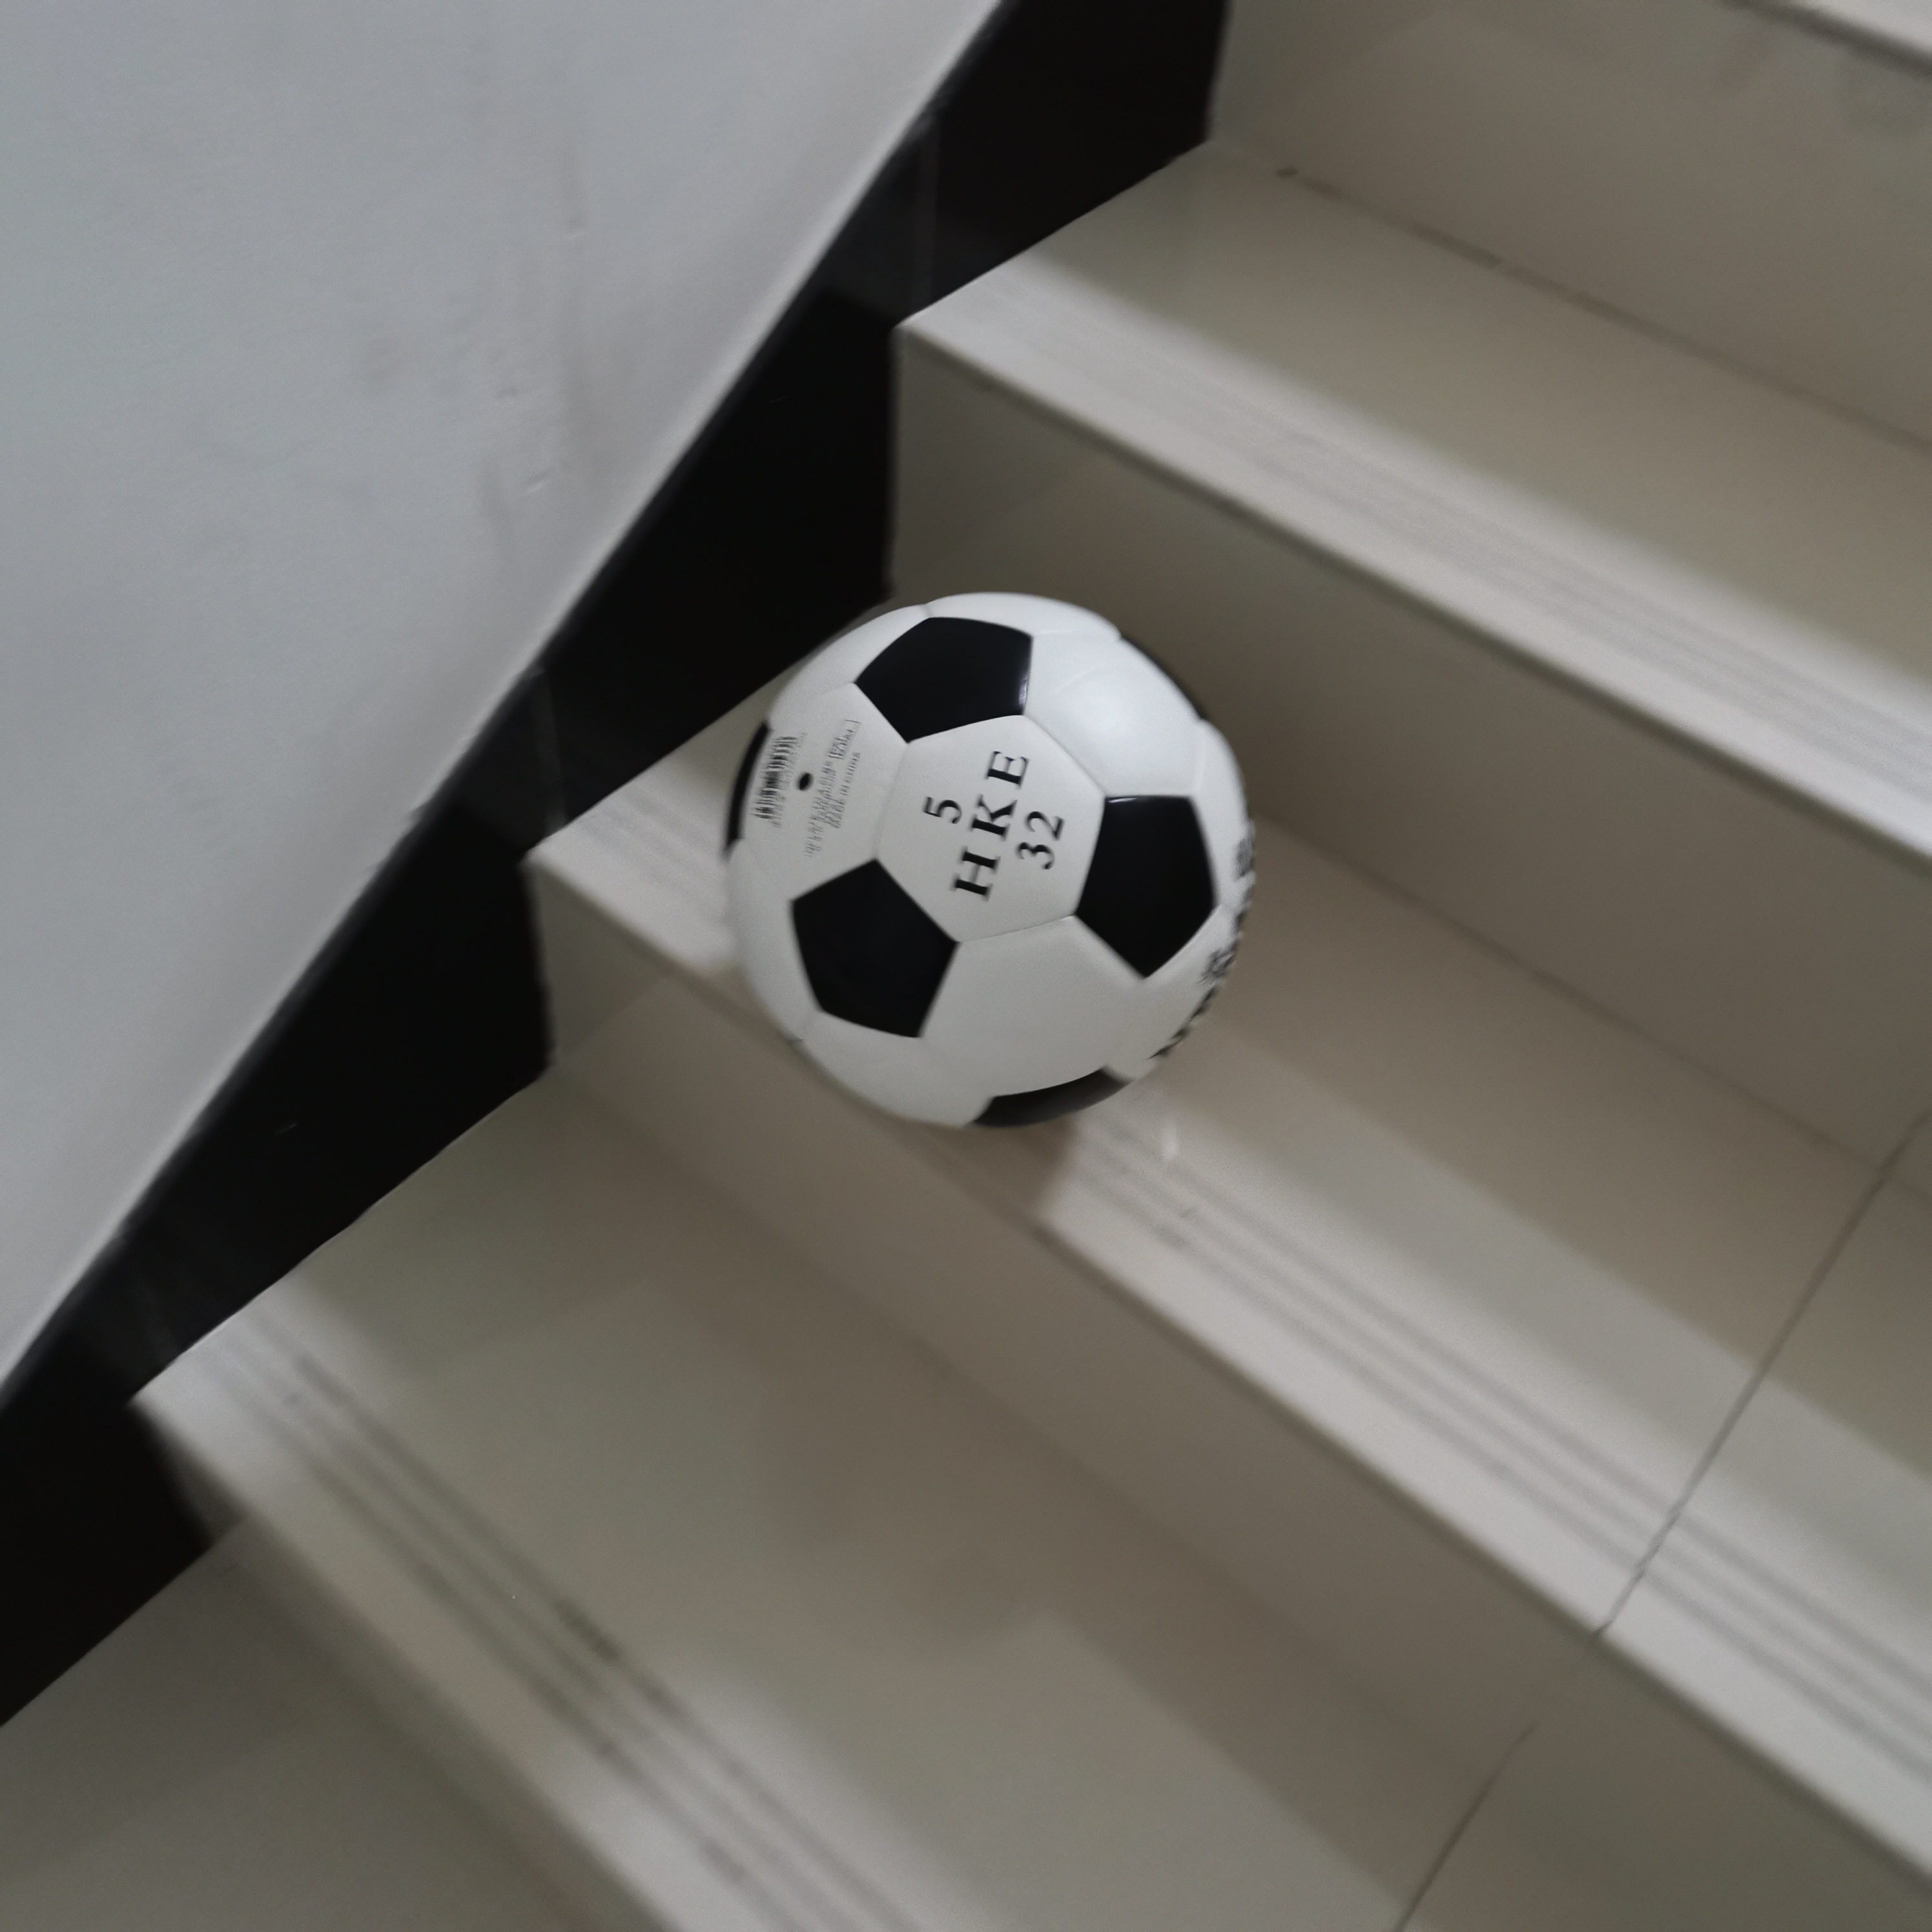football: (731, 591, 1254, 1132)
